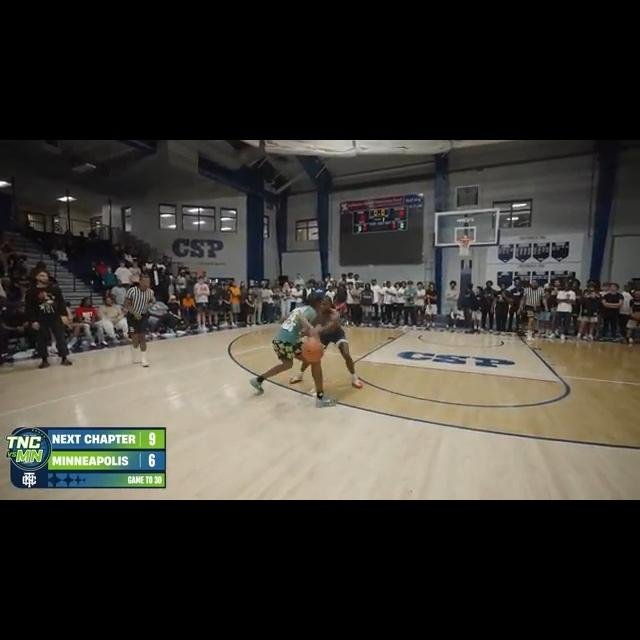basketball: (300, 338, 323, 363)
hoop: (455, 235, 472, 258)
